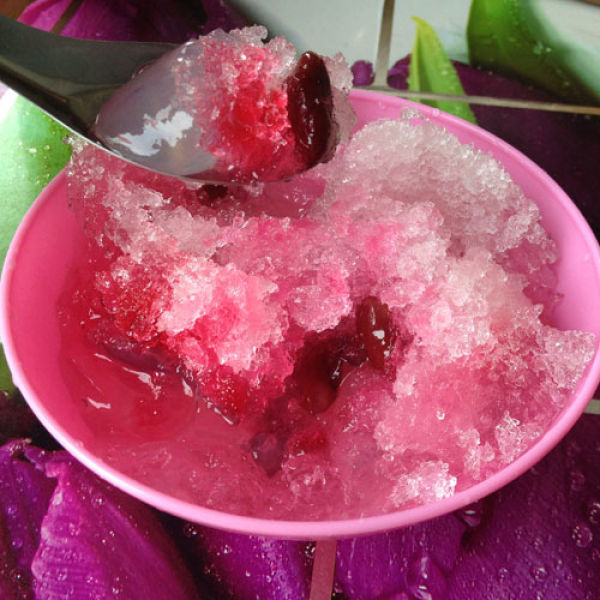O-eo: (20, 57, 582, 566)
